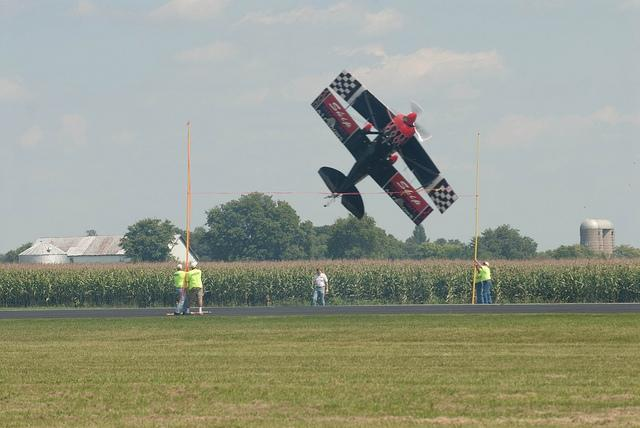corn: (357, 278, 361, 284), (451, 290, 455, 296), (388, 280, 392, 285), (414, 284, 416, 288), (517, 278, 519, 282), (382, 287, 384, 289)
